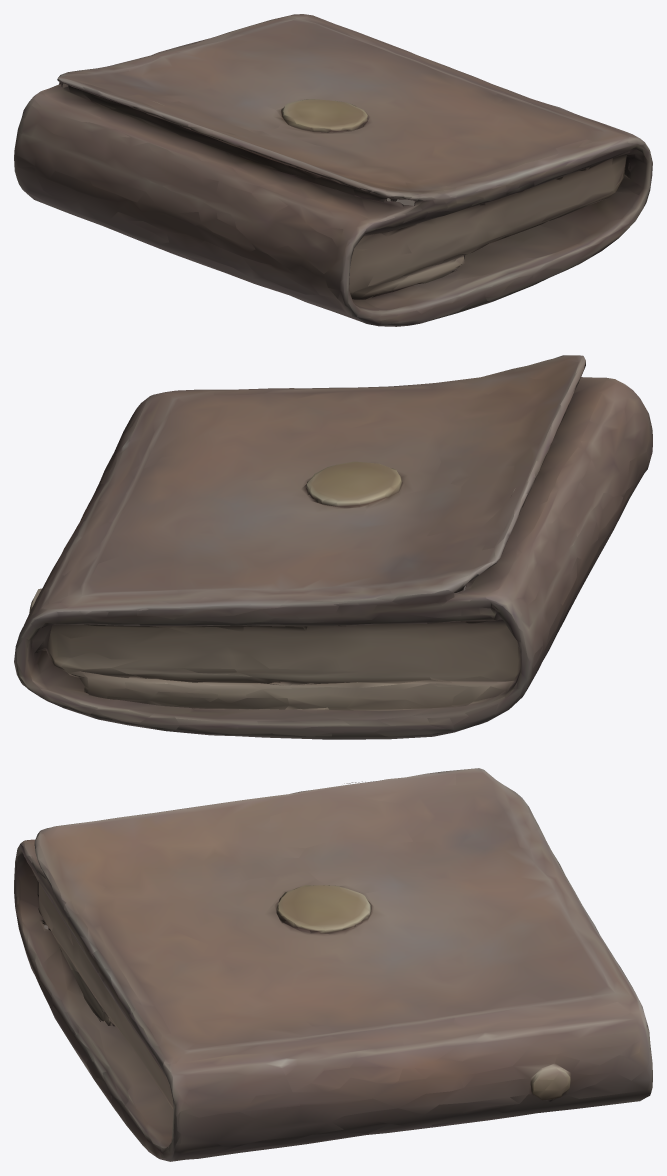
Rendered from 0001_mask_002_leather_pouch.glb.
3 views of the same model, one above another, from view 1: azimuth 30°, elevation 25°; view 2: azimuth 150°, elevation 25°; view 3: azimuth 270°, elevation 25° (orthographic). The views are drawn at different scales.
Visible parts, largest first — view 1: mask_002_object; view 2: mask_002_object; view 3: mask_002_object.
Boxes of the visible parts, x1,y1,x2,y2 form: mask_002_object: (14, 14, 652, 326); mask_002_object: (14, 355, 652, 739); mask_002_object: (14, 768, 652, 1161).
Size of the model in its own units: 0.0938 by 0.0312 by 0.0957.
